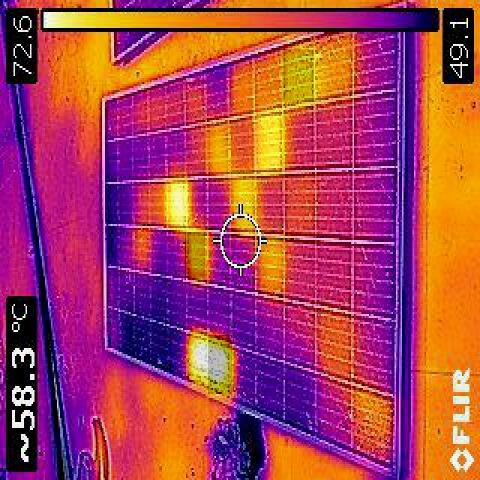fault: (282, 49, 314, 102), (254, 116, 280, 171), (208, 335, 232, 394), (186, 331, 208, 385), (164, 180, 188, 226), (185, 234, 205, 278)
